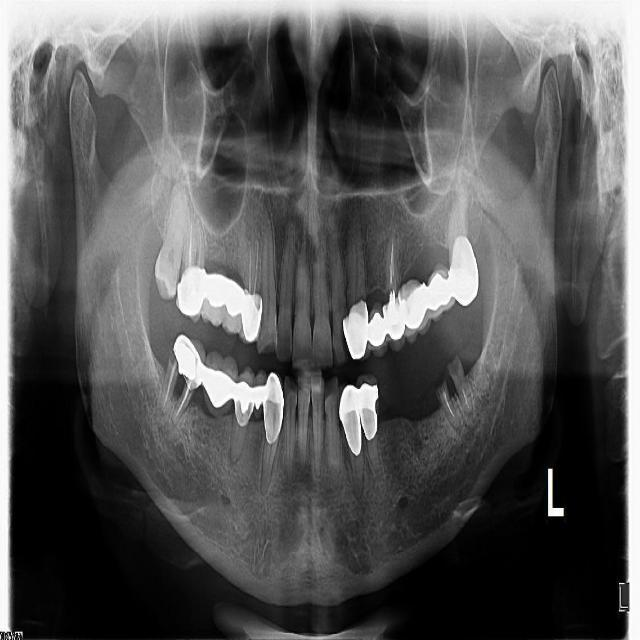72: (445, 355, 474, 414), (433, 377, 460, 431), (466, 358, 493, 394)
74: (161, 360, 178, 411), (177, 379, 192, 415), (253, 240, 260, 293), (188, 221, 195, 268), (197, 215, 202, 267), (389, 240, 394, 285), (249, 241, 251, 295)
NucleOSS Implant: (172, 340, 199, 380)
Sterngold Implant: (445, 354, 466, 378), (337, 325, 351, 360), (169, 264, 180, 291), (166, 346, 178, 366)
Zimmer Implant: (167, 328, 216, 389), (395, 280, 436, 345), (200, 349, 238, 417), (448, 237, 480, 306), (336, 379, 364, 457), (355, 374, 384, 443), (425, 262, 457, 320), (342, 300, 371, 363), (261, 372, 286, 444), (175, 266, 207, 322), (380, 299, 409, 352), (219, 284, 248, 335), (201, 273, 229, 325), (233, 367, 254, 427), (238, 290, 262, 341), (366, 302, 388, 356), (248, 367, 269, 419)
